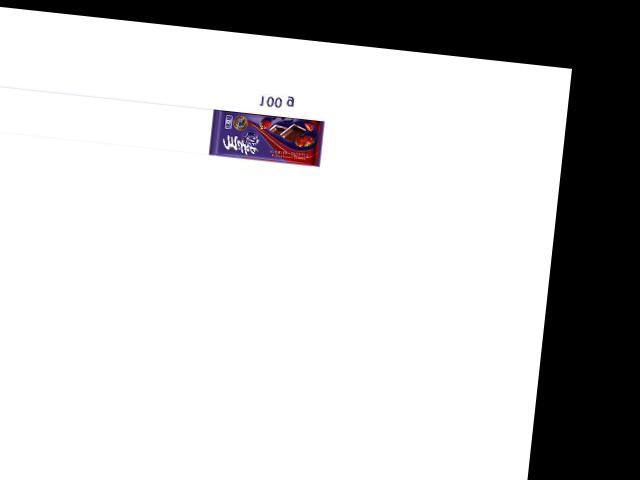chocolate: (209, 103, 326, 167)
